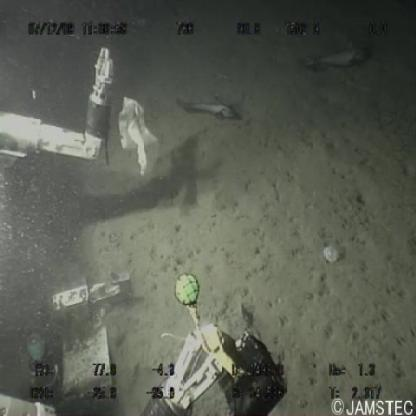Bio: (299, 40, 374, 76), (176, 90, 246, 126)
Rov: (2, 43, 290, 416)
Rác: (113, 94, 158, 179), (321, 243, 339, 267)
